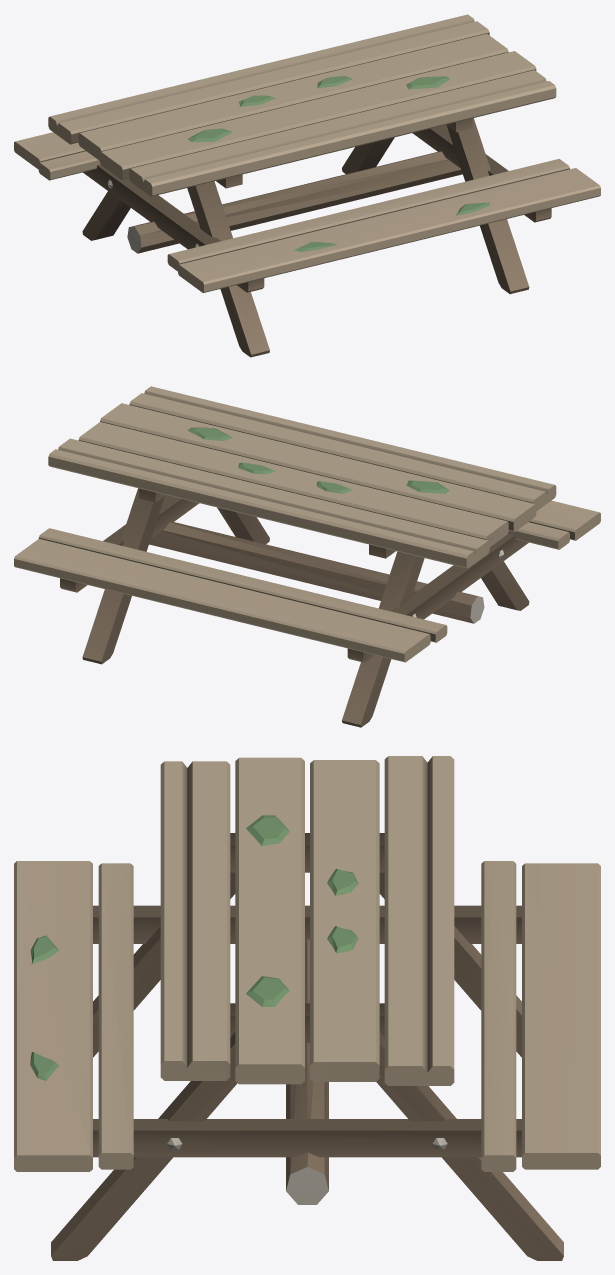
File: picnic.glb
3 renders of one model, top to bottom at view 1: azimuth 30°, elevation 25°; view 2: azimuth 150°, elevation 25°; view 3: azimuth 270°, elevation 25°, orthographic. The views are drawn at different scales.
Visible parts, largest first — view 1: picnic; view 2: picnic; view 3: picnic.
Boxes of the visible parts, left/top/right/bottom form: picnic: left=14, top=14, right=600, bottom=357; picnic: left=14, top=386, right=600, bottom=727; picnic: left=14, top=756, right=600, bottom=1260.
Size of the model in its own units: 2.3 by 0.8625 by 1.84.
